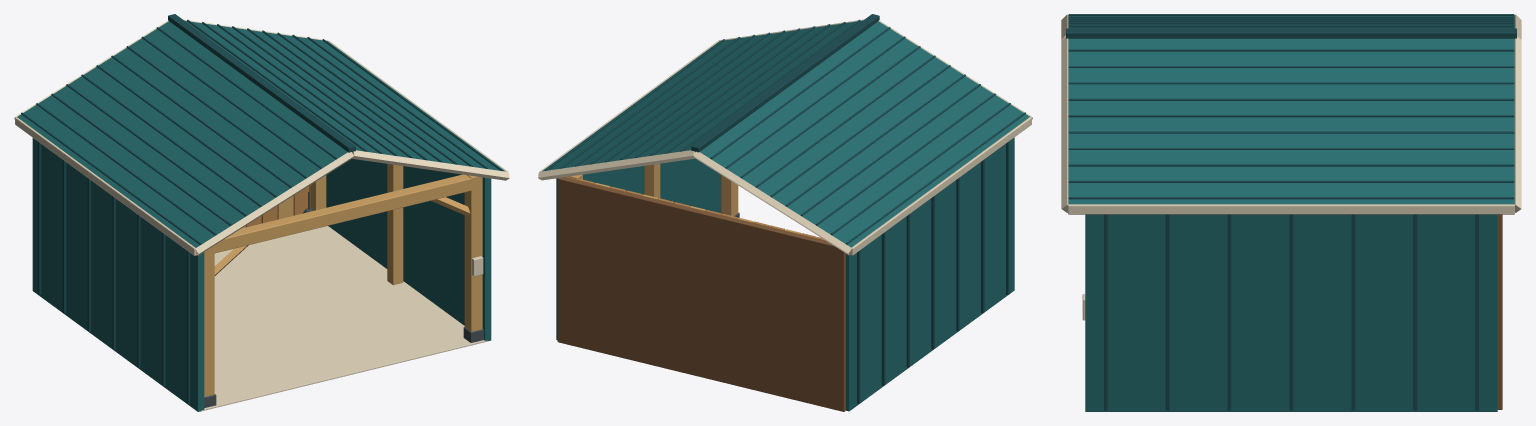
File: saw-shed.glb
3 renders of one model, left to right at view 1: azimuth 30°, elevation 25°; view 2: azimuth 150°, elevation 25°; view 3: azimuth 270°, elevation 25°, orthographic. The views are drawn at different scales.
Parts seen in each view (by area): view 1: saw-shed-roof-roof-timber-teal.001, saw-shed-shell-timber-teal, saw-shed-floor-timber-cream, saw-shed-roof-roof-timber-teal-dark.001, saw-shed-shell-timber-wood-light, saw-shed-roof-roof-timber-cream.001, saw-shed-shell-timber-teal-dark, saw-shed-shell-timber-wood; view 2: saw-shed-shell-timber-wood-dark, saw-shed-roof-roof-timber-teal.001, saw-shed-shell-timber-teal, saw-shed-roof-roof-timber-teal-dark.001, saw-shed-roof-roof-timber-cream.001, saw-shed-shell-timber-teal-dark, saw-shed-shell-timber-wood-light; view 3: saw-shed-shell-timber-teal, saw-shed-roof-roof-timber-teal.001, saw-shed-roof-roof-timber-teal-dark.001, saw-shed-roof-roof-timber-cream.001, saw-shed-shell-timber-teal-dark, saw-shed-shell-timber-wood-dark.
Boxes of the visible parts, box(x1,y1,x2,y2) form: saw-shed-roof-roof-timber-teal.001: box(17, 21, 505, 253); saw-shed-shell-timber-teal: box(32, 138, 491, 411); saw-shed-floor-timber-cream: box(201, 226, 487, 411); saw-shed-roof-roof-timber-teal-dark.001: box(21, 14, 502, 244); saw-shed-shell-timber-wood-light: box(204, 164, 482, 396); saw-shed-roof-roof-timber-cream.001: box(14, 19, 509, 255); saw-shed-shell-timber-teal-dark: box(37, 141, 190, 404); saw-shed-shell-timber-wood: box(246, 185, 310, 227); saw-shed-shell-timber-wood-dark: box(557, 177, 845, 411); saw-shed-roof-roof-timber-teal.001: box(542, 20, 1029, 247); saw-shed-shell-timber-teal: box(556, 137, 1014, 411); saw-shed-roof-roof-timber-teal-dark.001: box(545, 14, 1025, 244); saw-shed-roof-roof-timber-cream.001: box(538, 19, 1032, 255); saw-shed-shell-timber-teal-dark: box(857, 141, 1009, 403); saw-shed-shell-timber-wood-light: box(568, 163, 800, 234); saw-shed-shell-timber-teal: box(1085, 214, 1497, 411); saw-shed-roof-roof-timber-teal.001: box(1068, 15, 1514, 204); saw-shed-roof-roof-timber-teal-dark.001: box(1066, 14, 1516, 199); saw-shed-roof-roof-timber-cream.001: box(1061, 14, 1521, 214); saw-shed-shell-timber-teal-dark: box(1104, 214, 1478, 410); saw-shed-shell-timber-wood-dark: box(1497, 214, 1502, 409).
Bounding box in the file's own units: 6.58 × 4.69 × 6.69.
